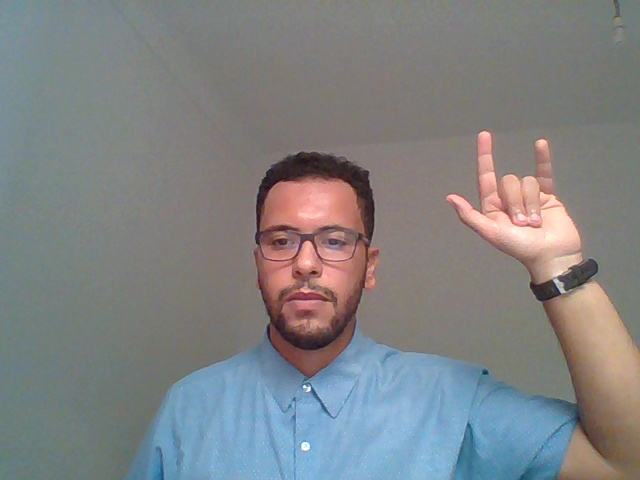iloveyou: (436, 114, 618, 403)
